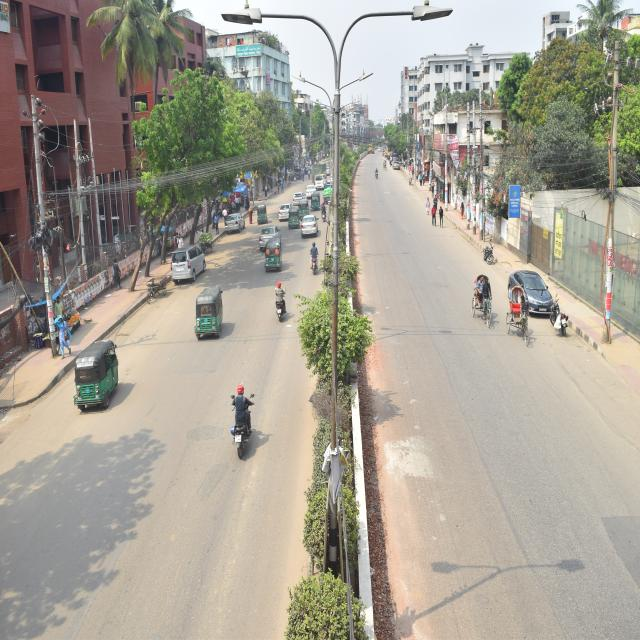car: (506, 263, 560, 320), (256, 220, 282, 256), (222, 208, 248, 239), (298, 208, 318, 236), (279, 200, 291, 226), (302, 176, 315, 196), (294, 185, 306, 205)
microbus: (165, 244, 212, 284), (315, 162, 330, 190)
motorbike: (226, 380, 257, 463), (544, 288, 572, 339), (264, 280, 292, 328), (307, 238, 323, 274), (484, 232, 499, 266), (320, 200, 332, 224), (372, 161, 382, 184)
